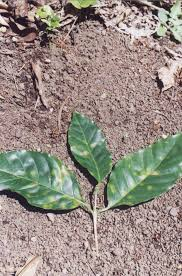ojo de gallo: (15, 164, 79, 209), (118, 163, 170, 196)
